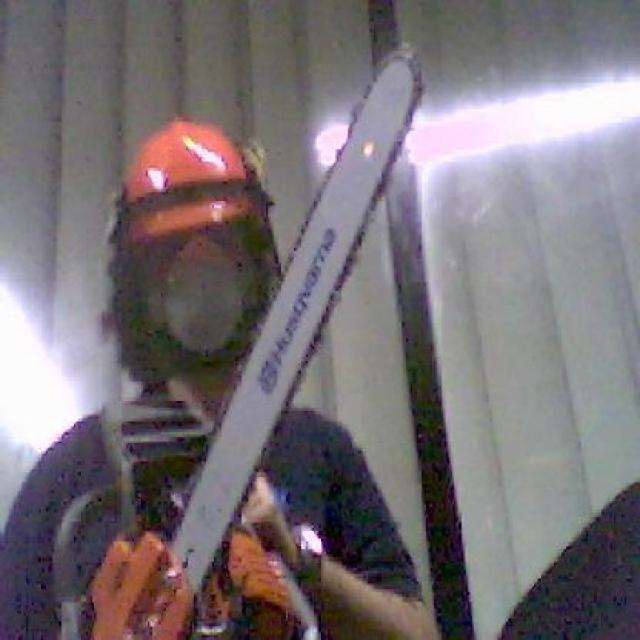Chainsaw: (53, 53, 424, 638)
